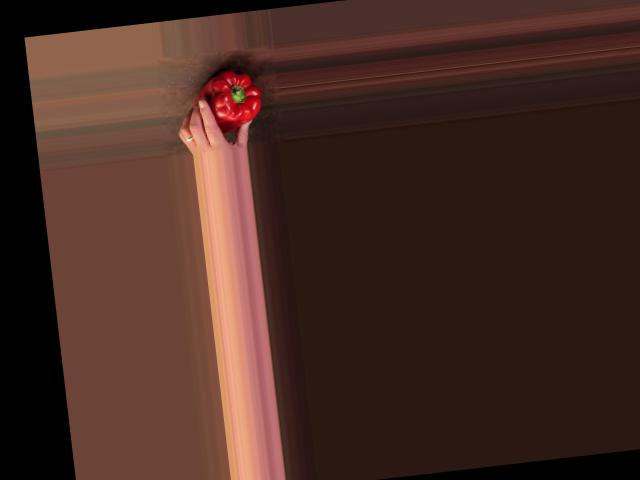bell_pepper: (197, 66, 266, 132)
